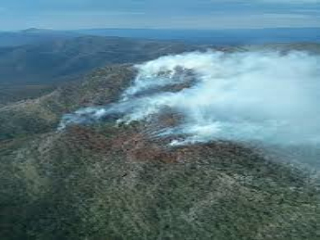smoke: (57, 83, 220, 122), (126, 50, 270, 88), (156, 119, 271, 155)
